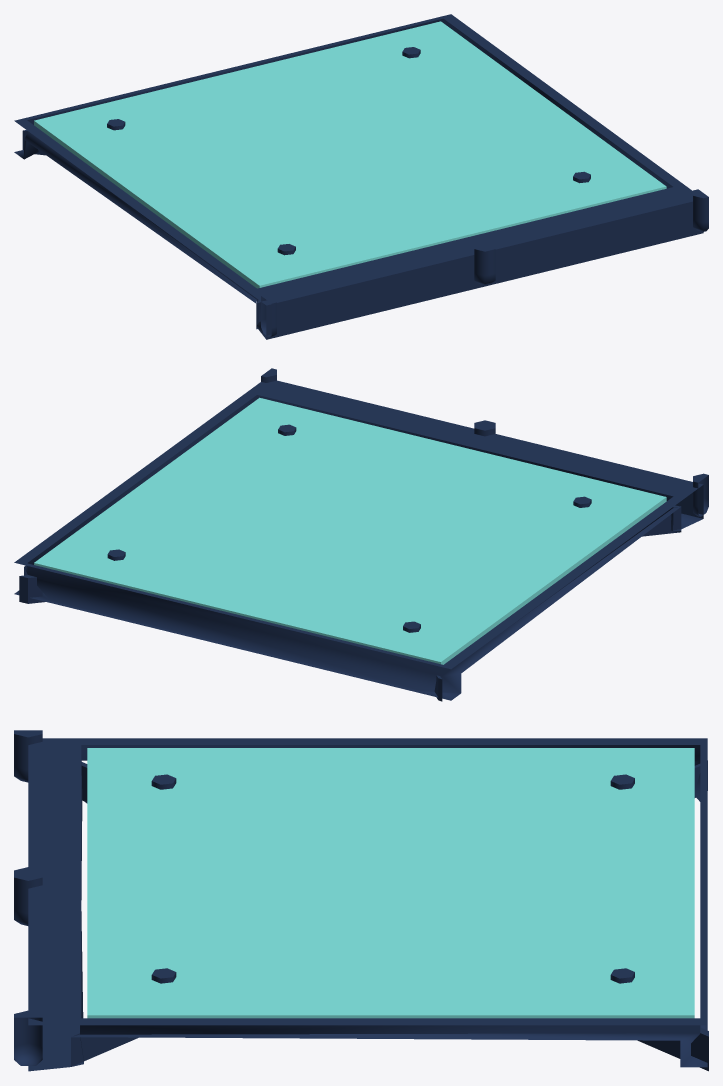
The model's file is Bridge Module B.fbx.
3 views of the same model, one above another, from view 1: azimuth 30°, elevation 25°; view 2: azimuth 150°, elevation 25°; view 3: azimuth 270°, elevation 25° (orthographic). The views are drawn at different scales.
Parts seen in each view (by area): view 1: Cube.006; view 2: Cube.006; view 3: Cube.006.
Part boxes in pixels (<box>): Cube.006: <box>14,14,708,339</box>; Cube.006: <box>14,368,708,701</box>; Cube.006: <box>14,730,708,1071</box>.
Size of the model in its own units: 2 by 0.1882 by 2.05.
